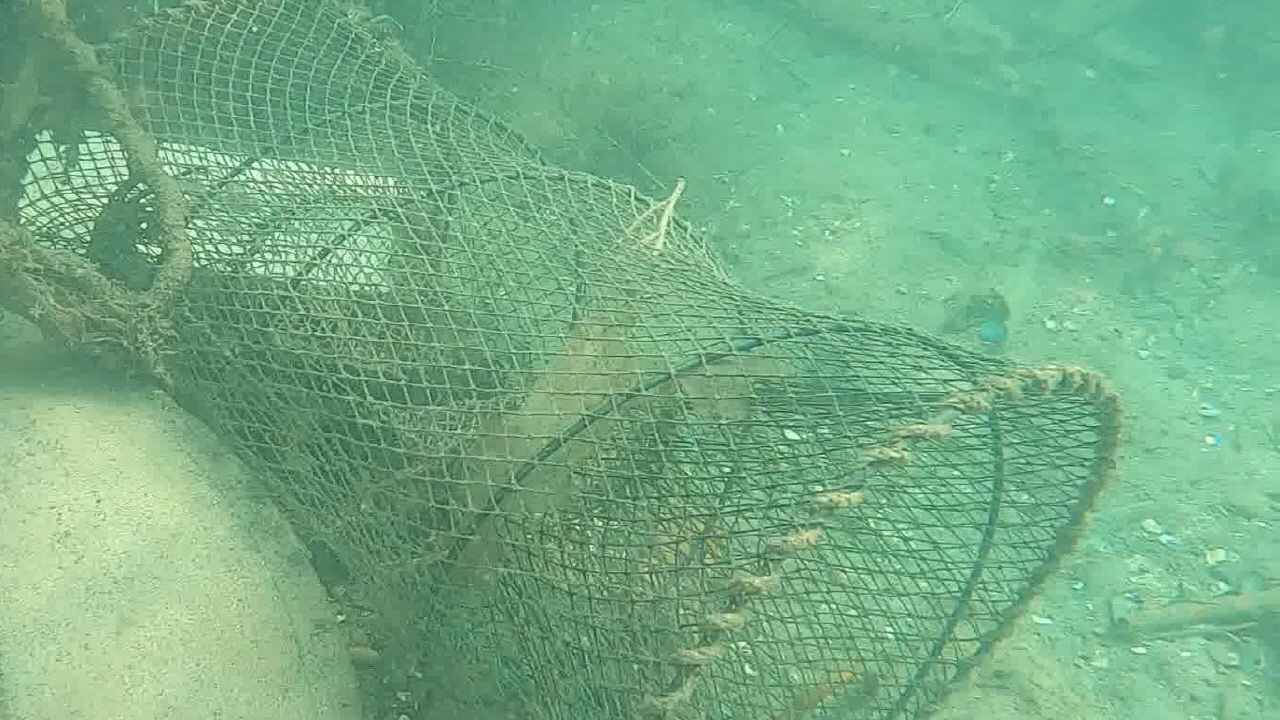spring fish trap: (0, 0, 1122, 720)
